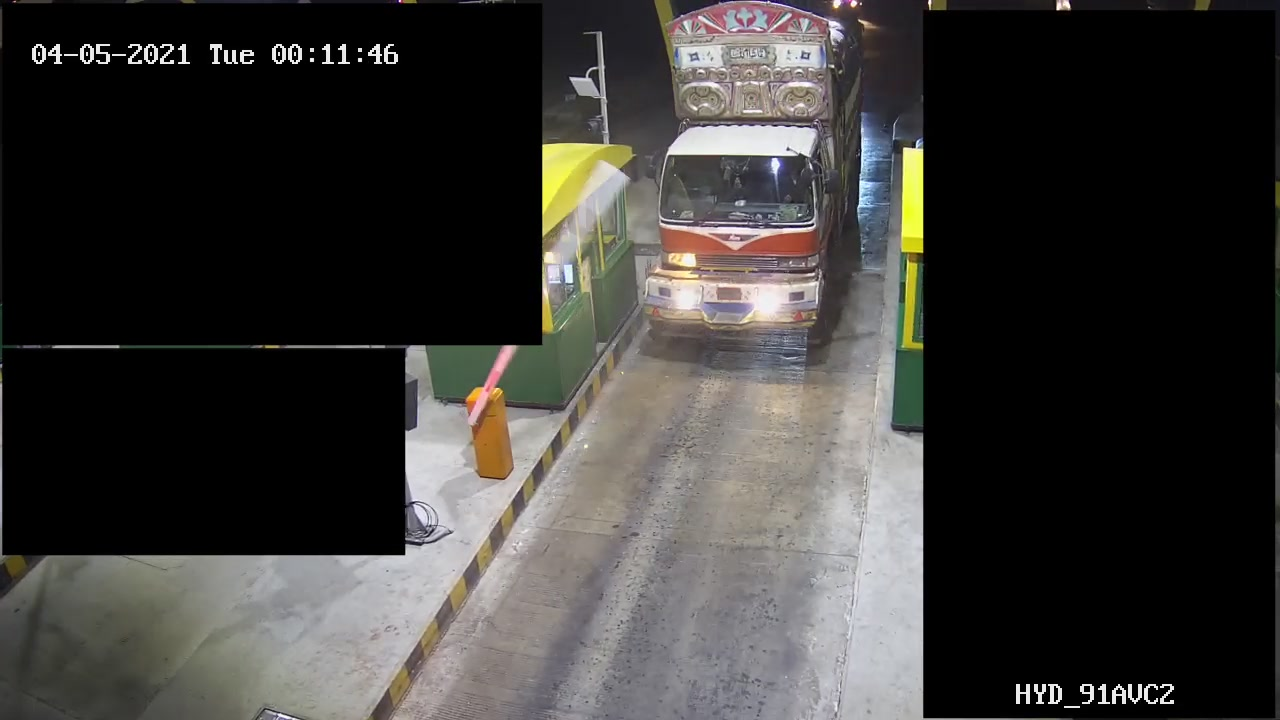F5: (641, 1, 871, 363)
